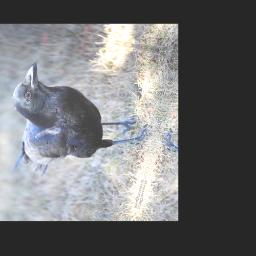Crow: (0, 60, 161, 194)
